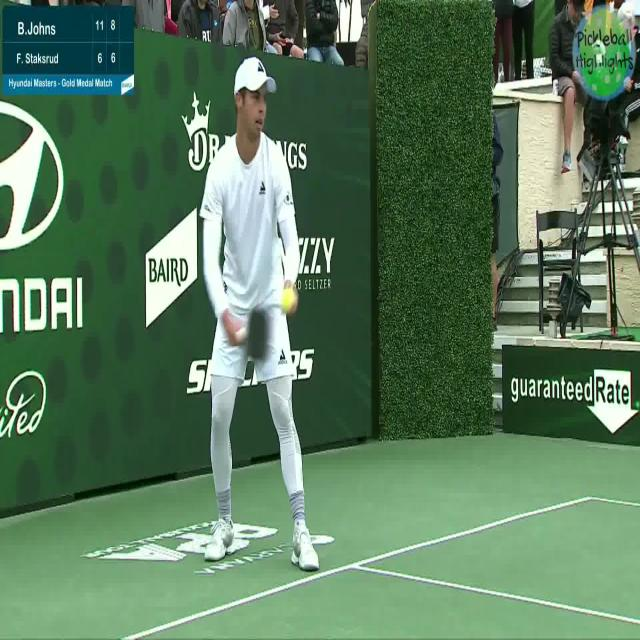ball: (278, 283, 302, 318)
